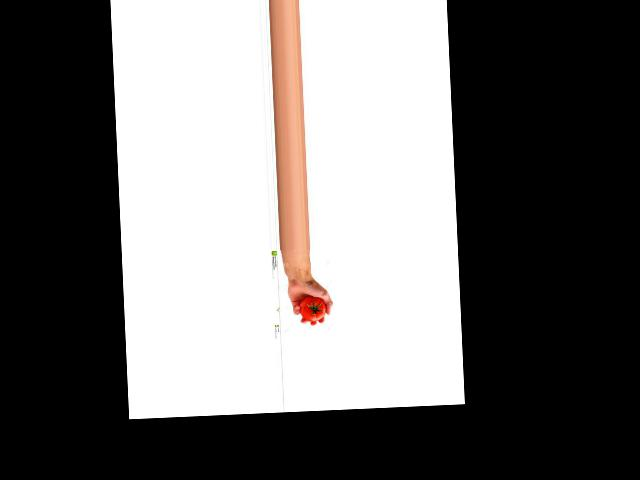tomato: (298, 296, 326, 322)
